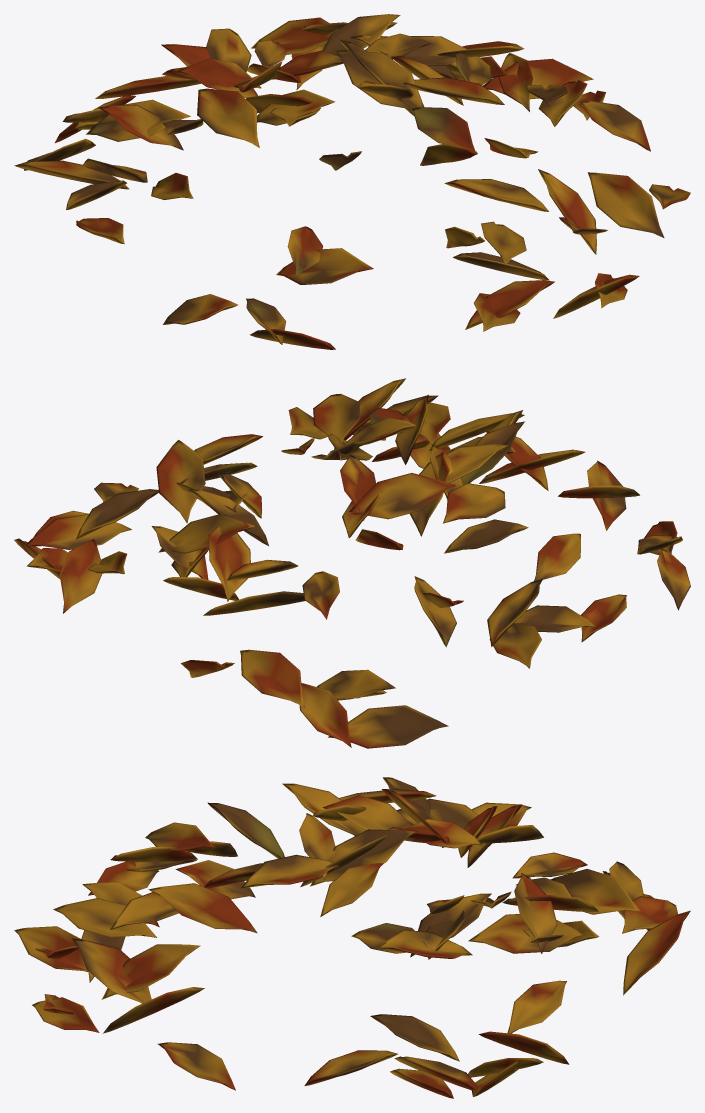
The model's file is LeafPile.glb.
3 views of the same model, one above another, from view 1: azimuth 30°, elevation 25°; view 2: azimuth 150°, elevation 25°; view 3: azimuth 270°, elevation 25° (orthographic).
Parts seen in each view (by area): view 1: Leaves; view 2: Leaves; view 3: Leaves.
Boxes of the visible parts, x1,y1,x2,y2 form: Leaves: (14, 14, 690, 349); Leaves: (14, 378, 690, 748); Leaves: (14, 777, 690, 1098).
Size of the model in its own units: 0.8222 by 0.2345 by 0.8733.
